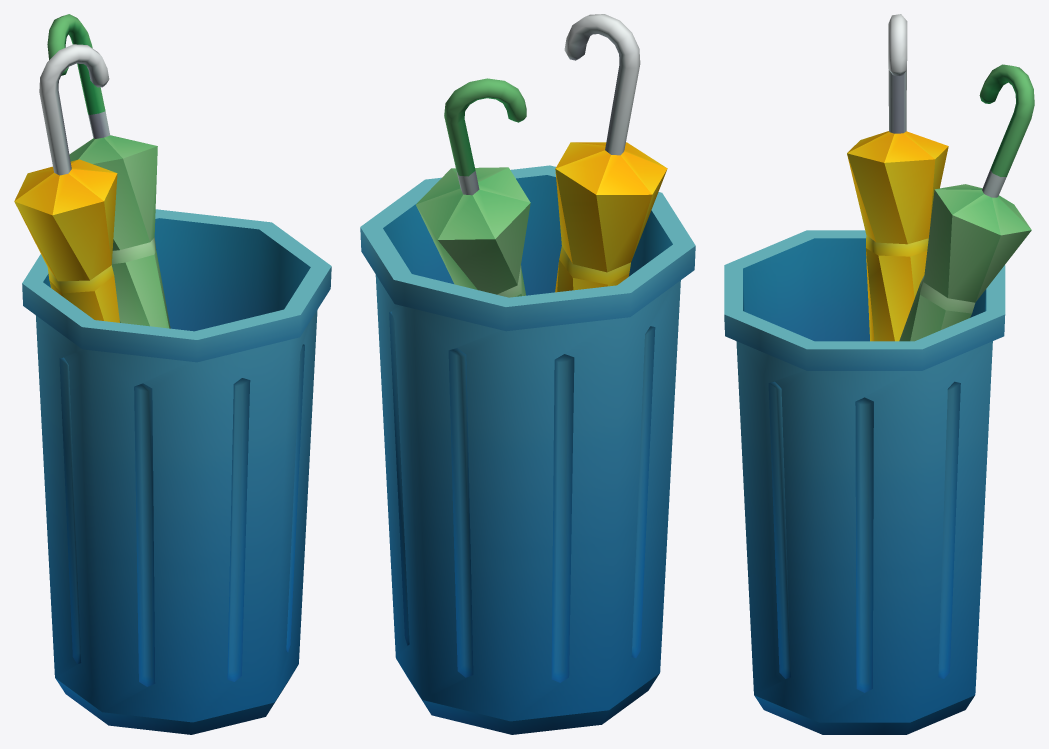
File: CR_UmbrellaStand.FBX
The picture shows the model from 3 angles, left to right: view 1: azimuth 30°, elevation 25°; view 2: azimuth 150°, elevation 25°; view 3: azimuth 270°, elevation 25°; orthographic projection. The views are drawn at different scales.
Visible parts, largest first — view 1: CR_UmbrellaStand; view 2: CR_UmbrellaStand; view 3: CR_UmbrellaStand.
Part boxes in pixels (<box>): CR_UmbrellaStand: <box>14,14,331,734</box>; CR_UmbrellaStand: <box>360,14,695,734</box>; CR_UmbrellaStand: <box>724,14,1034,734</box>.
Size of the model in its own units: 27.97 by 66.05 by 29.3.
